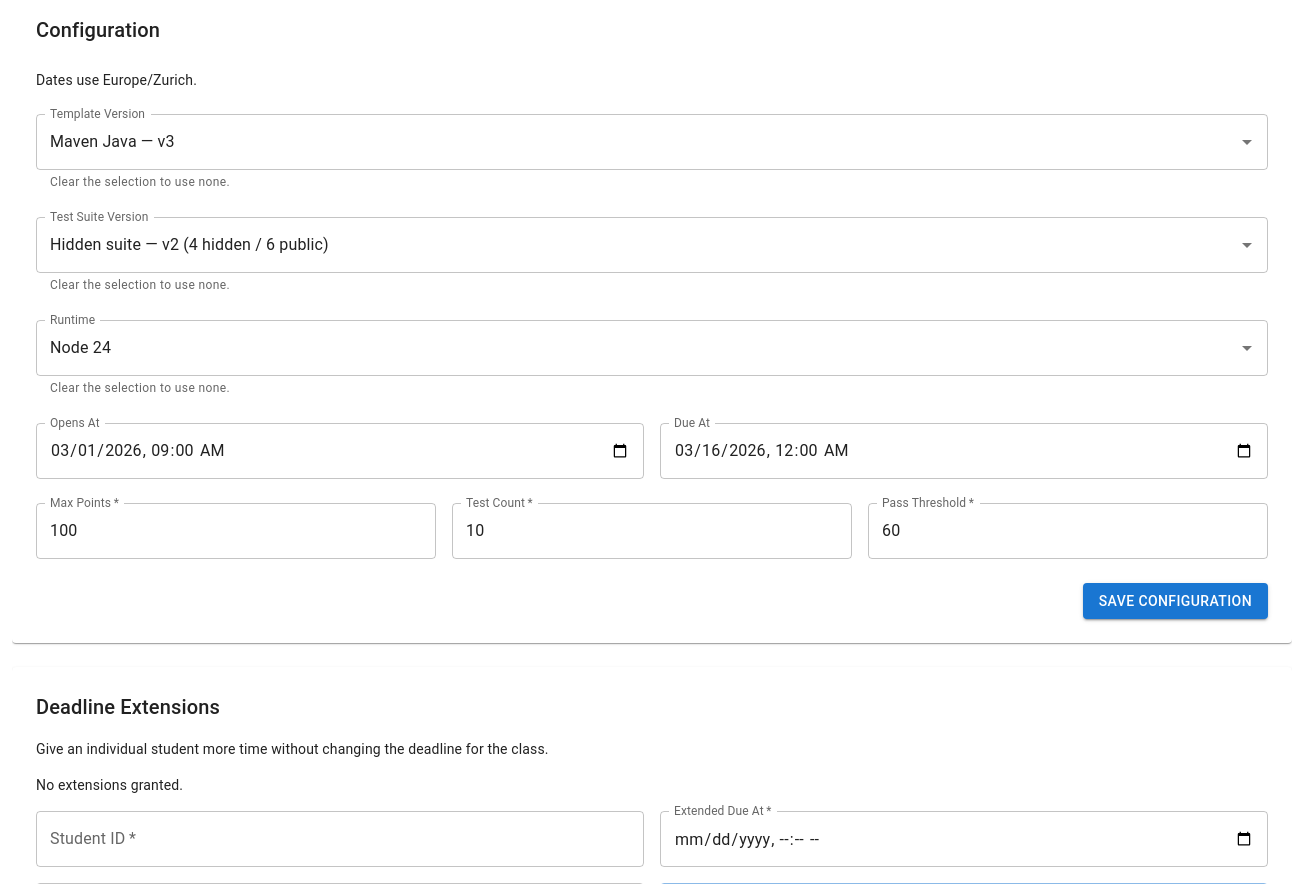
saves the deadlines as instants in the assignment timezone
(page scrolled)
Check: the heading "Configuration" is shown, box [36,18,160,42]
Replace the text in the field labelled "Due At" with "2026-03-20T18:00". click: (964, 451)
box: [660,423,1268,479]
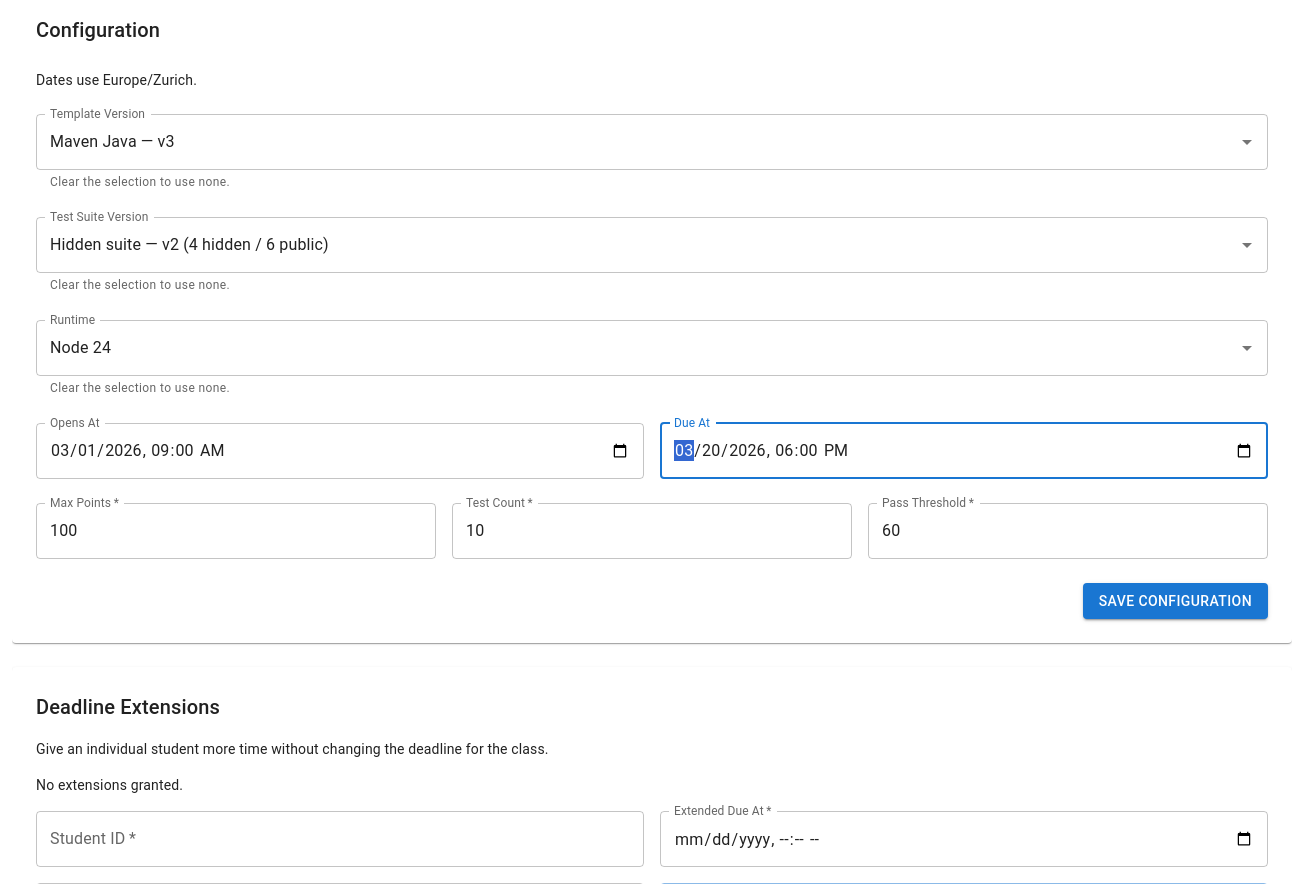
Click the button "Save Configuration". click: click(1175, 601)
box: [1083,583,1268,619]
(page scrolled)
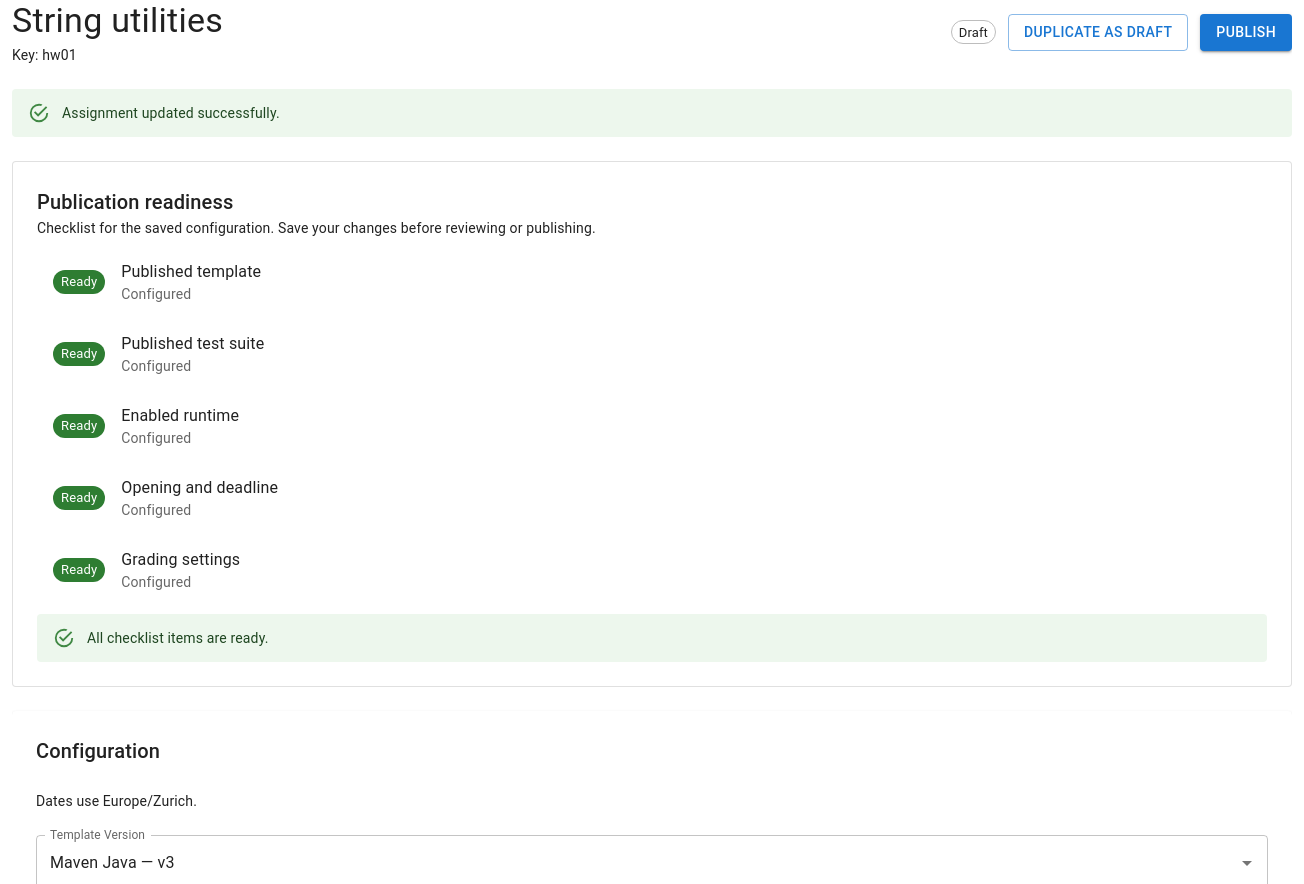
Check: the text "Assignment updated successfully." is shown, box [62,105,280,121]
